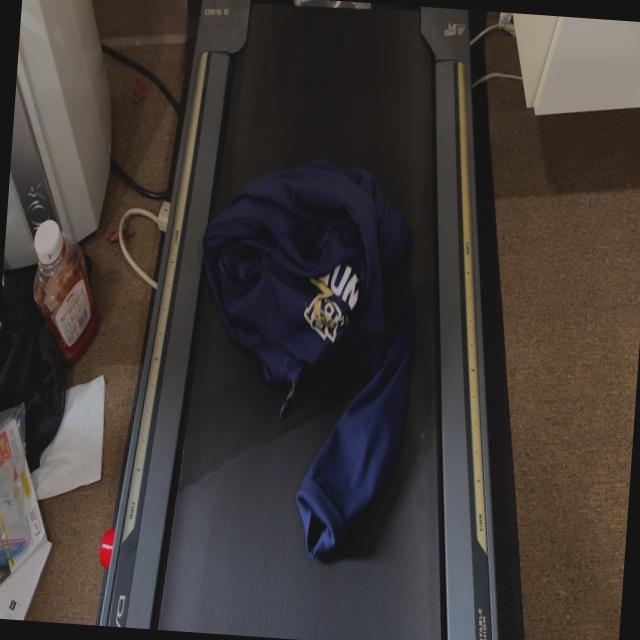Trash: (179, 147, 421, 564)
